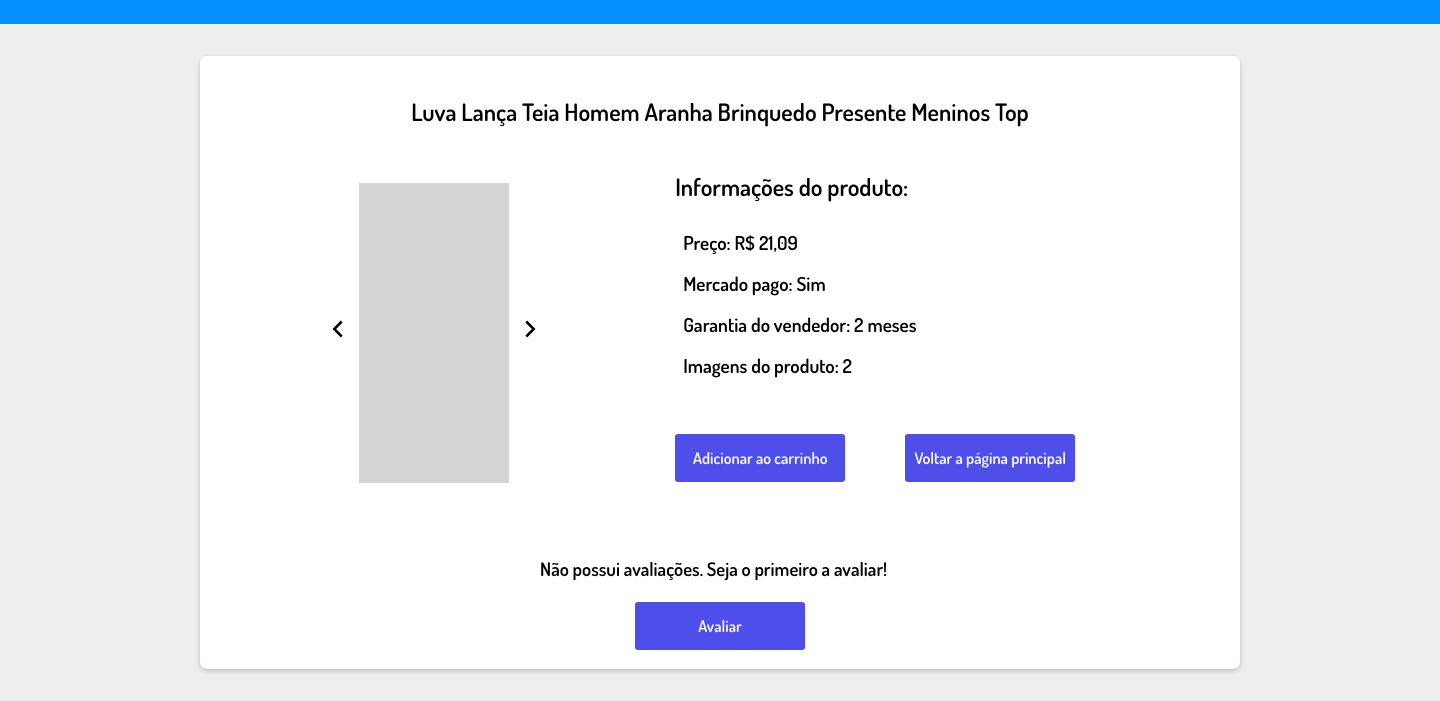
Scenario: Testes do ProductReview › Testa se ao clicar em "Avaliar" sem estar logado, aparece um alerta na tela
This screenshot has width=1440, height=701.
(page scrolled)
Check: the heading named "noReviewDefaultMessage" reads "Não possui avaliações. Seja o primeiro a avaliar!", box [540, 557, 887, 580]
Click the button with aria-label "reviewBtn" at (720, 626), box [635, 602, 805, 650]
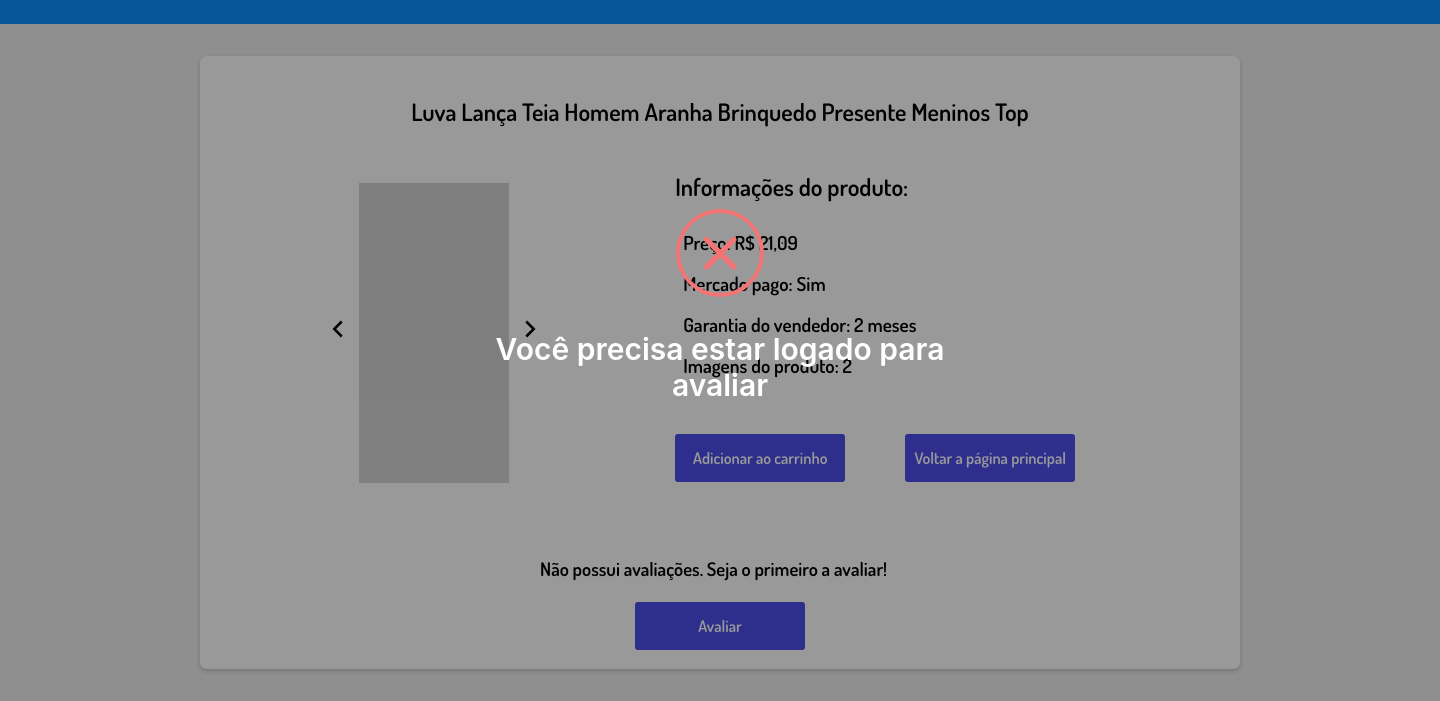
Check: the heading "Você precisa estar logado para avaliar" is shown, box [464, 307, 976, 403]
